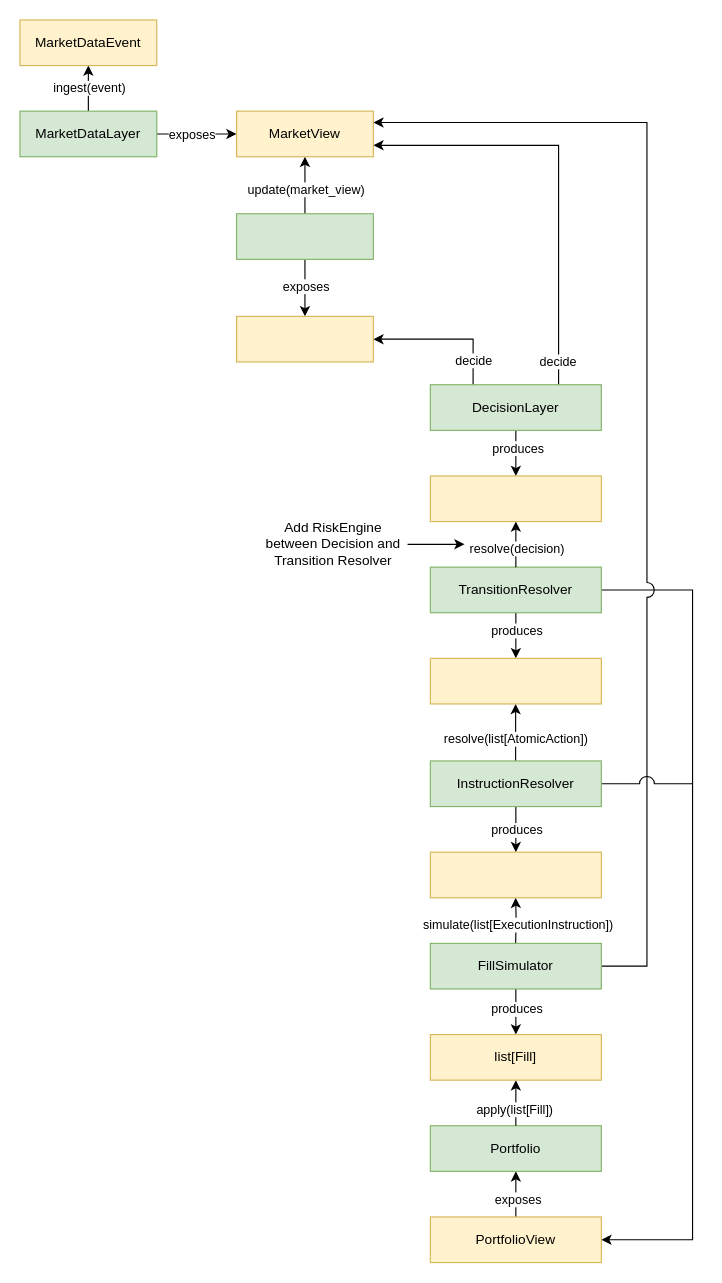
Image size: 722x1283. Some labels were removed from this diagram. Here are the shapes that lost their labels. From the top down, the centre of each, then its label:
At pixel 304 236: "FeatureLayer".
At pixel 304 338: "FeatureView".
At pixel 515 498: "Decision".
At pixel 515 680: "list[AtomicAction]".
At pixel 515 874: "list[ExecutionInstruction]".
